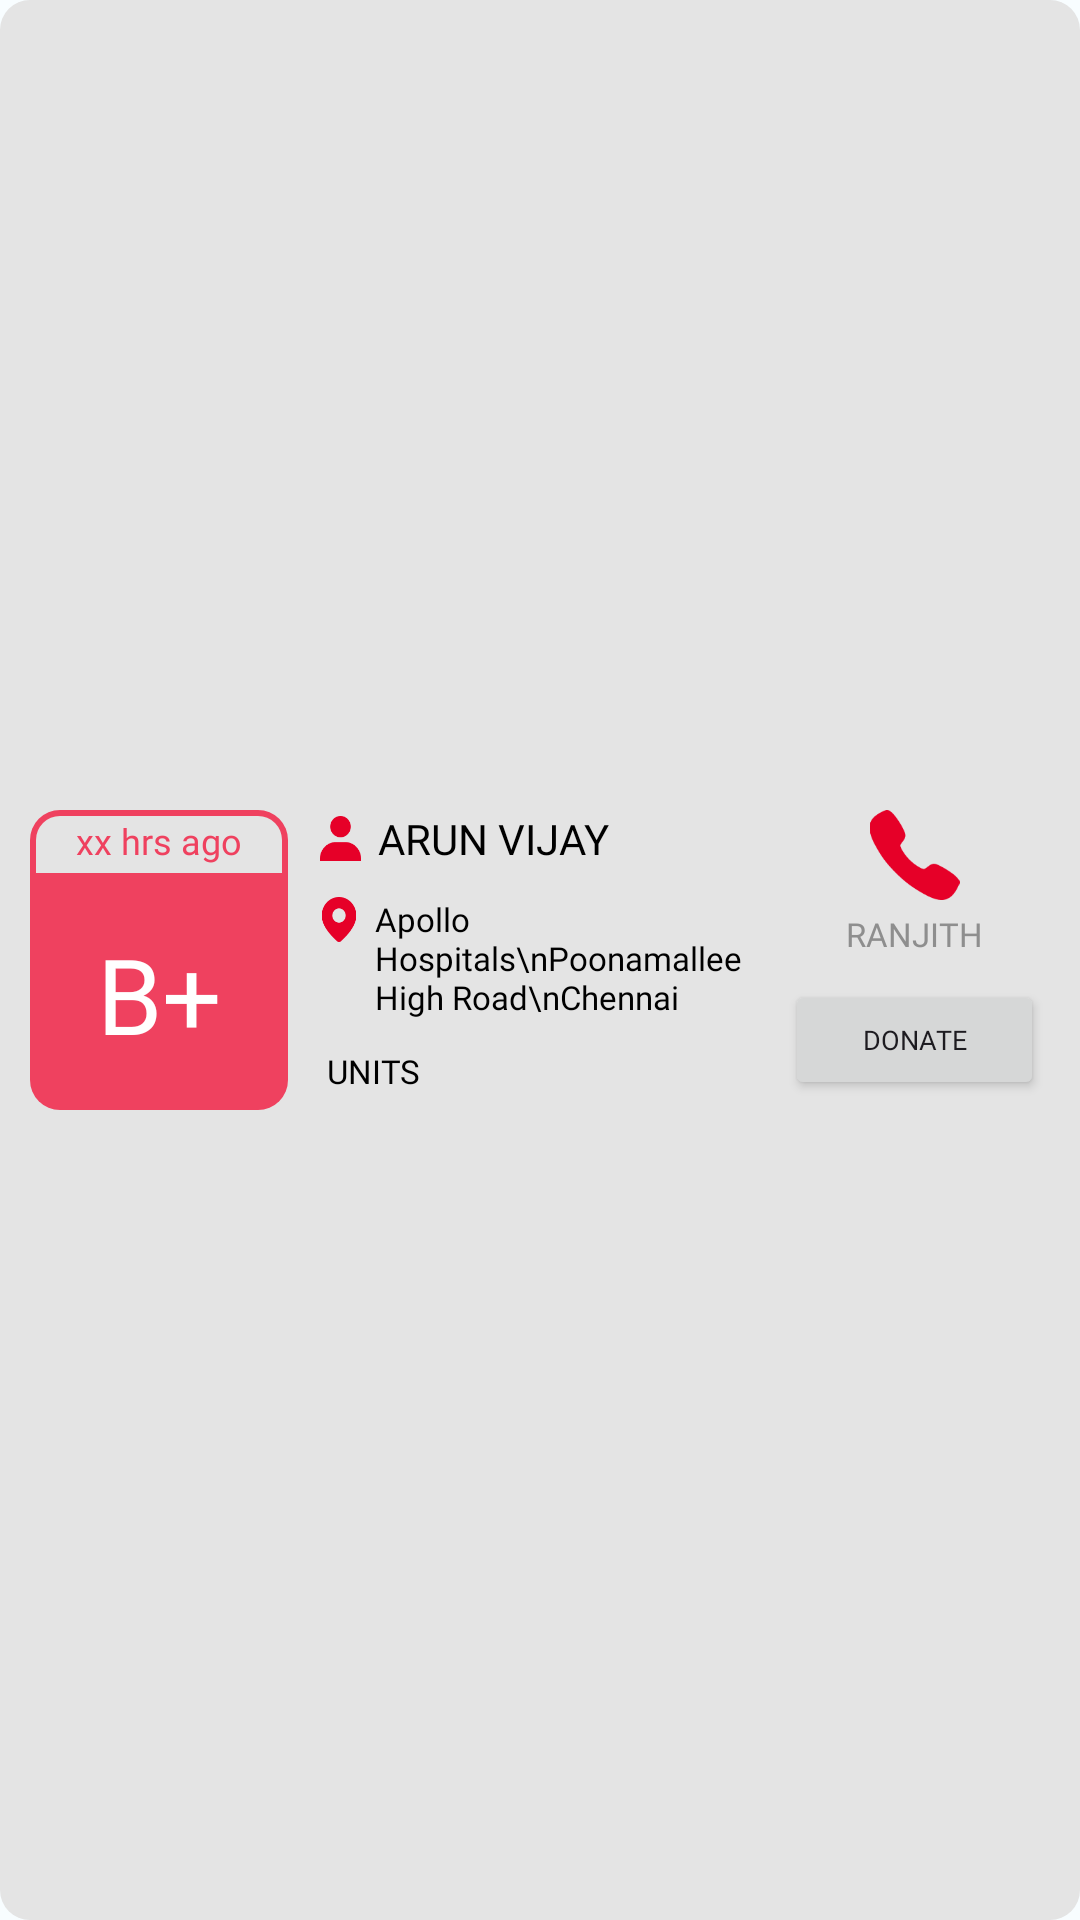

Where to tap for icons on this 1080 × 1920 app screen, as (x=x, y=y):
location: (x=339, y=919)
phone: (x=915, y=855)
user: (x=340, y=838)
